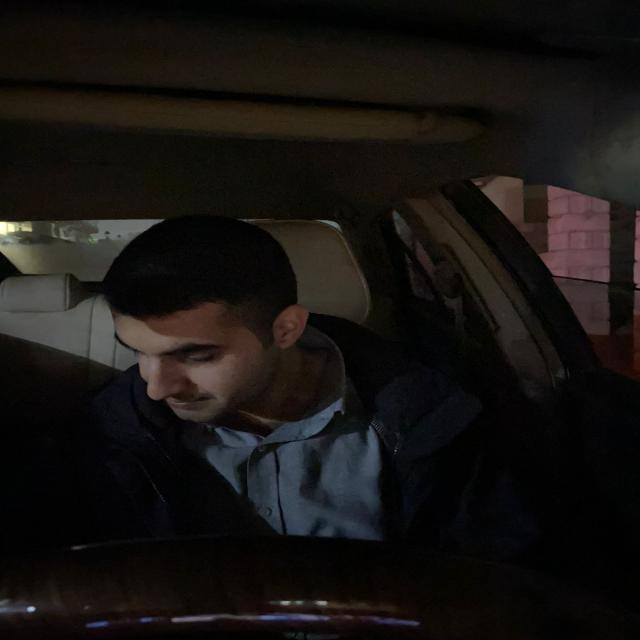drowsy: (104, 240, 318, 416)
